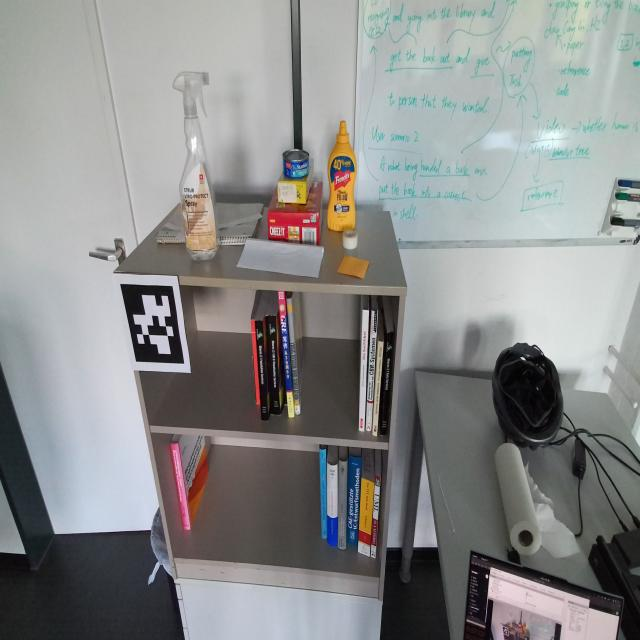Book Spine: (278, 291, 294, 418), (170, 443, 191, 530), (286, 298, 301, 414), (266, 315, 281, 415), (366, 309, 378, 431), (255, 320, 269, 421), (381, 331, 394, 436), (347, 455, 362, 546), (358, 478, 374, 557), (359, 310, 369, 431), (372, 341, 384, 437), (337, 458, 348, 550), (327, 461, 338, 546), (371, 475, 381, 559), (251, 320, 260, 405), (319, 448, 327, 538)
